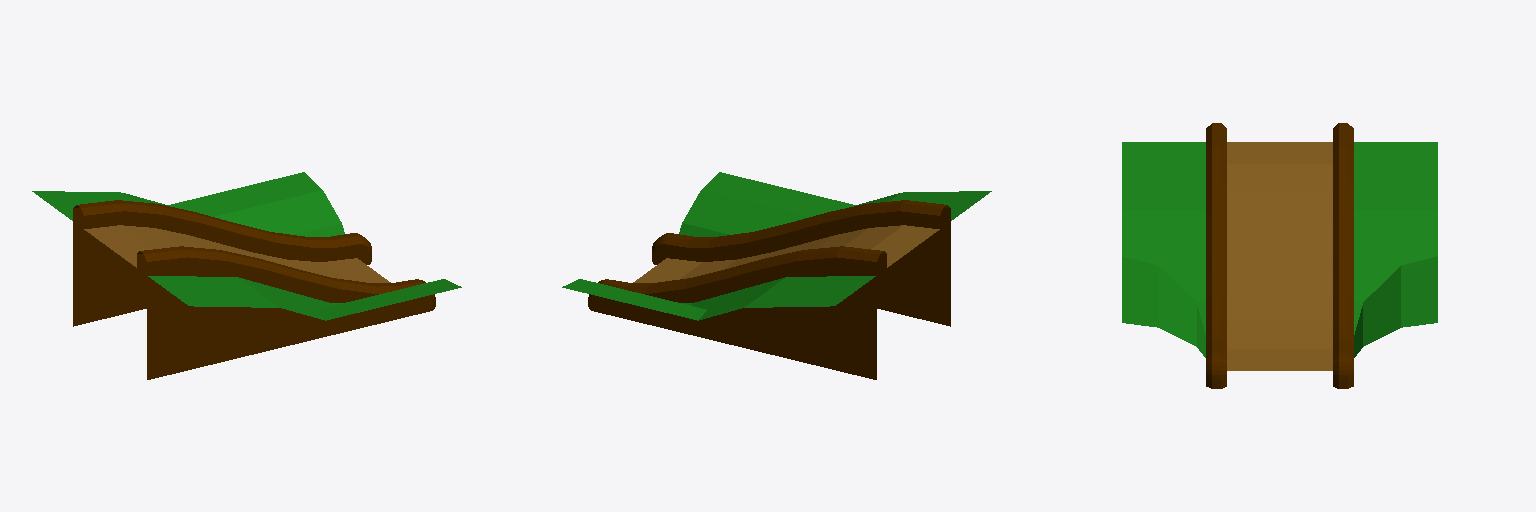
The model's file is Track_Bridge_Ramp_Hill_3x3.obj.
The picture shows the model from 3 angles: view 1: azimuth 30°, elevation 25°; view 2: azimuth 150°, elevation 25°; view 3: azimuth 270°, elevation 25°; orthographic projection.
Visible parts, largest first — view 1: object3, object1, object2; view 2: object3, object2, object1; view 3: object3, object1, object2.
Part boxes in pixels (x1,y1,x2,y2): object3: (73, 200, 435, 379); object1: (32, 172, 344, 236); object2: (148, 276, 461, 320); object3: (588, 200, 950, 379); object2: (679, 172, 991, 236); object1: (562, 276, 875, 320); object3: (1206, 123, 1353, 388); object1: (1354, 142, 1437, 357); object2: (1122, 142, 1205, 357).
Size of the model in its own units: 3.2 by 1.3 by 3.